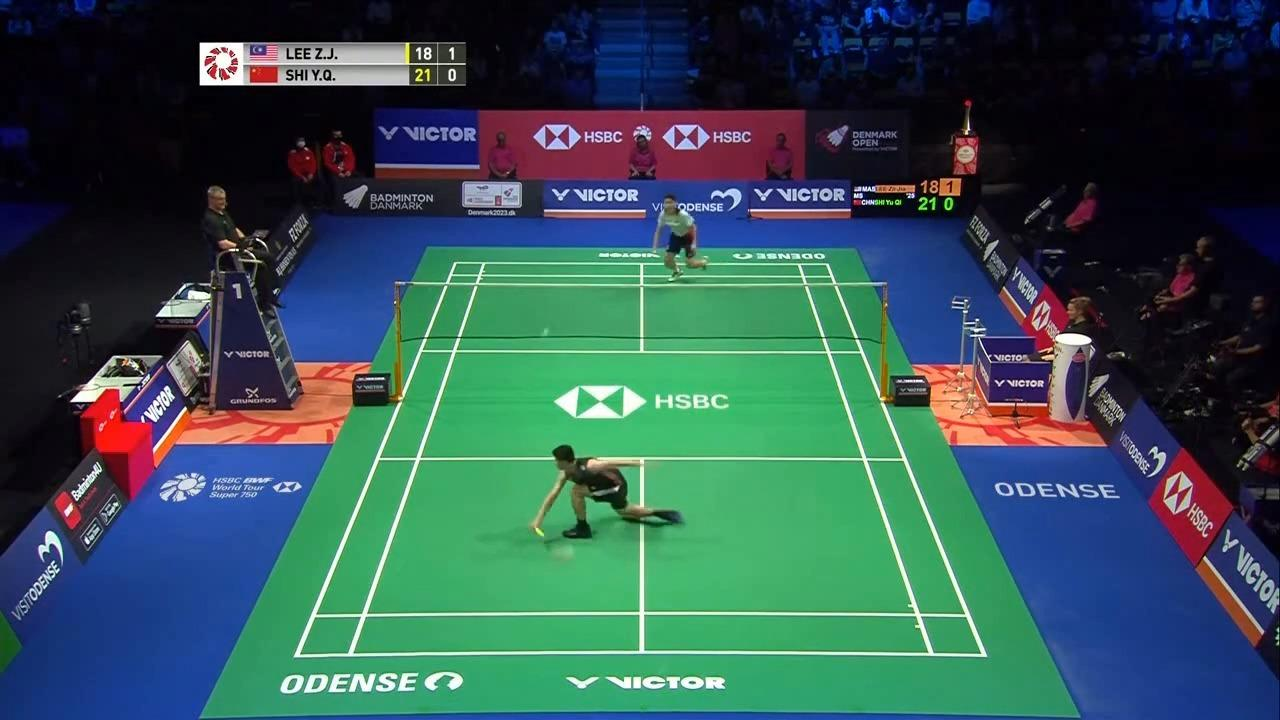shuttle: (538, 327, 551, 340)
